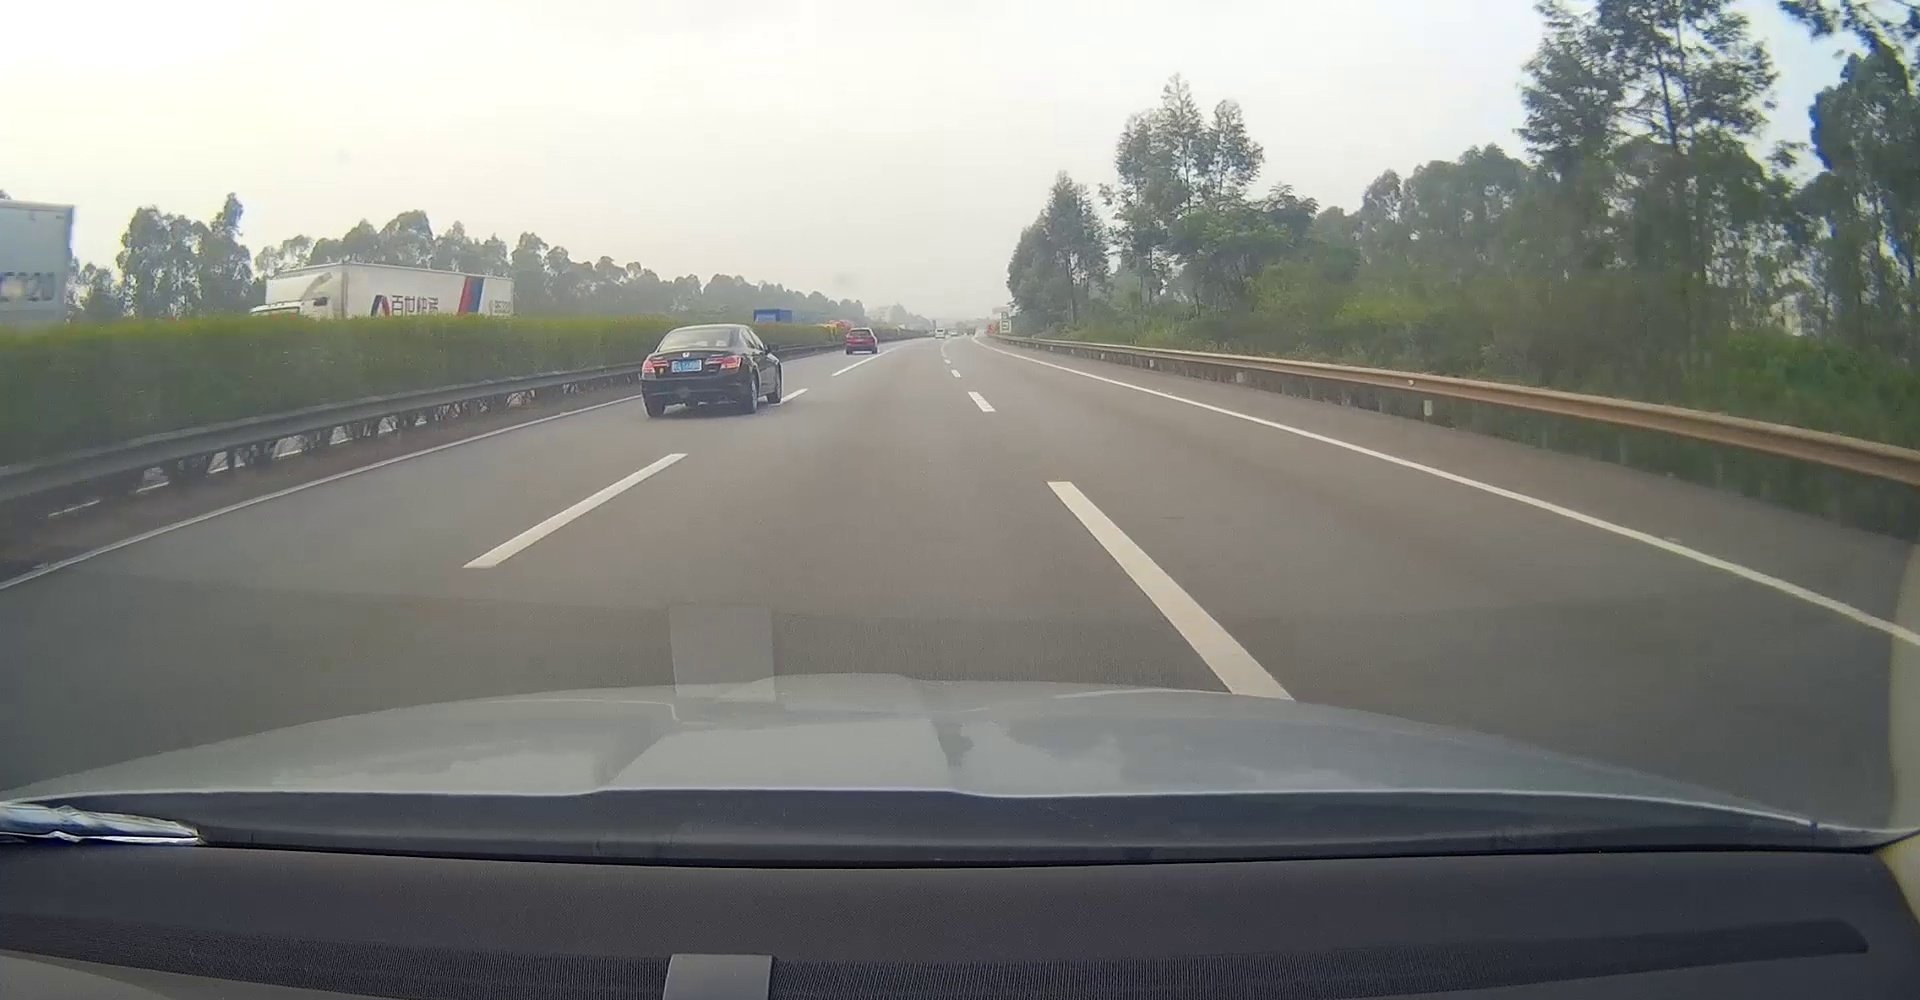L_light: (643, 358, 669, 373)
R_light: (703, 355, 742, 369)
T_light: (692, 329, 707, 332)
day-no: (640, 324, 748, 418)
